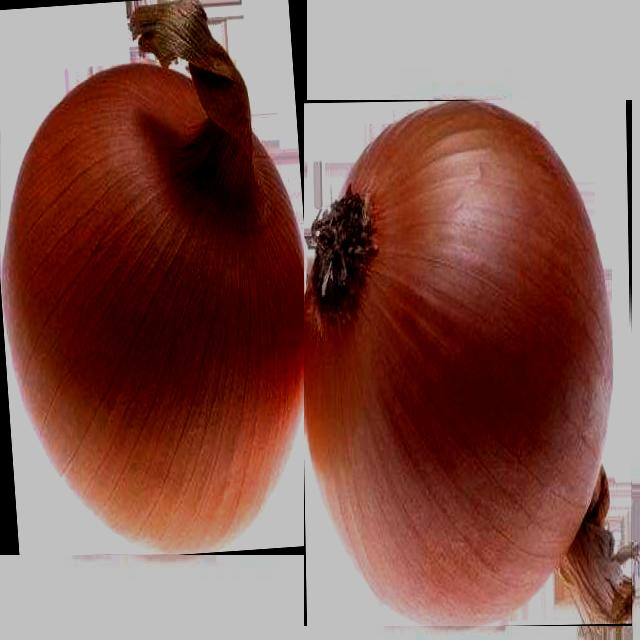healthy: (304, 100, 630, 626), (1, 0, 307, 554)
